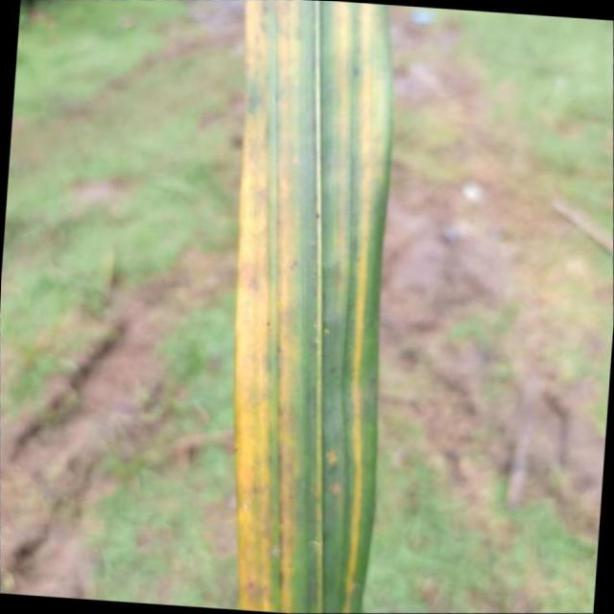Megnesium: (238, 0, 393, 614)
